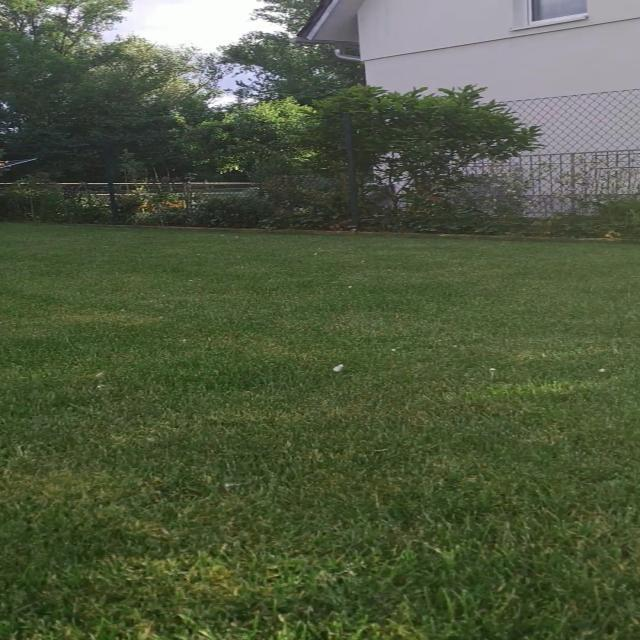lawn: (0, 224, 640, 640)
